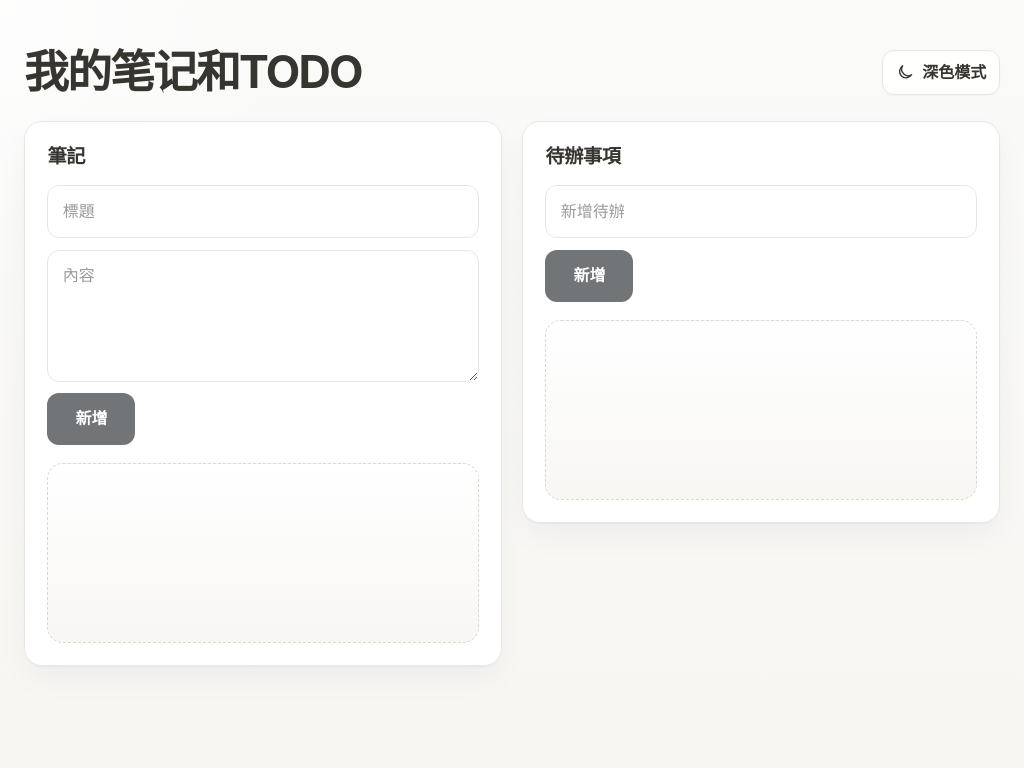
HomeClient interactions › creates a note with the in-memory API fake and reloads the list
In the field named "筆記標題": [263, 212] box [47,185,479,238], type "補 README"
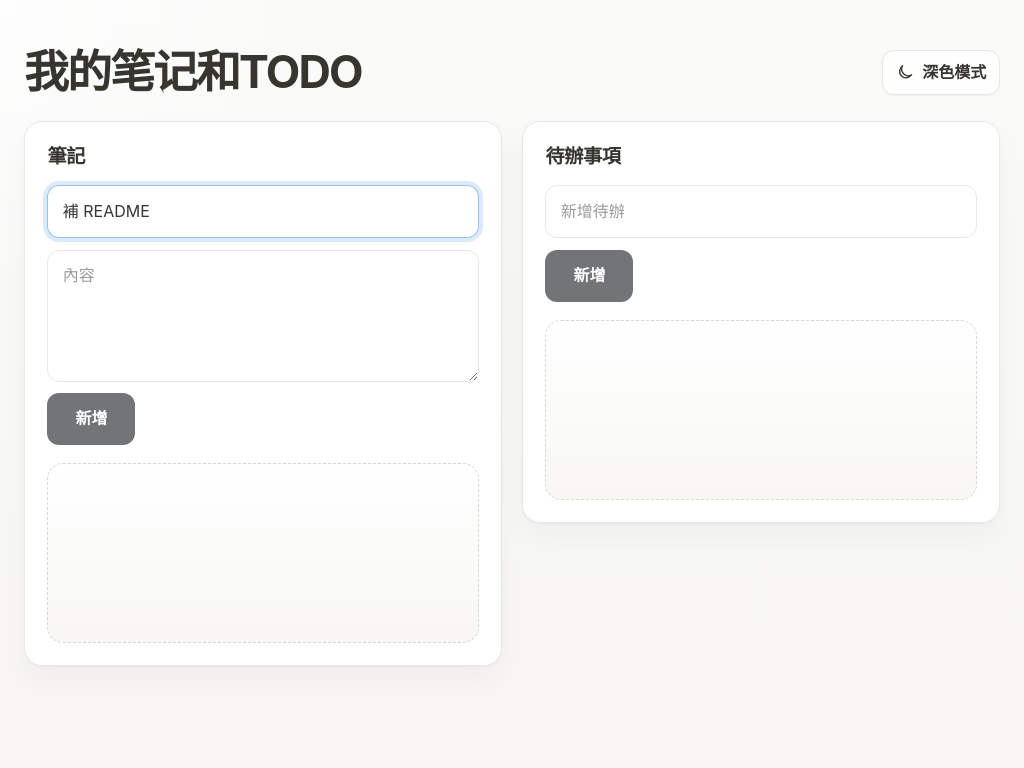
In the text box named "筆記內容": [263, 316] box [47,250,479,382], type "把 Blob token 的步驟寫清楚。"
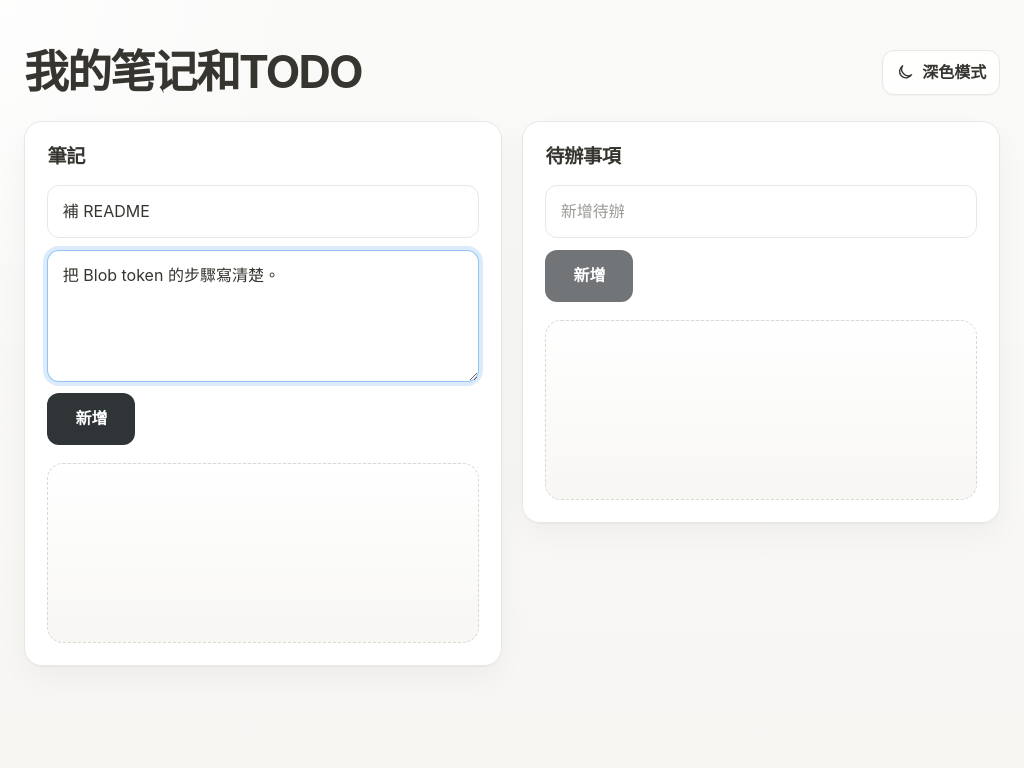
Click the button with aria-label "新增筆記": [91, 419] box [47,393,135,445]
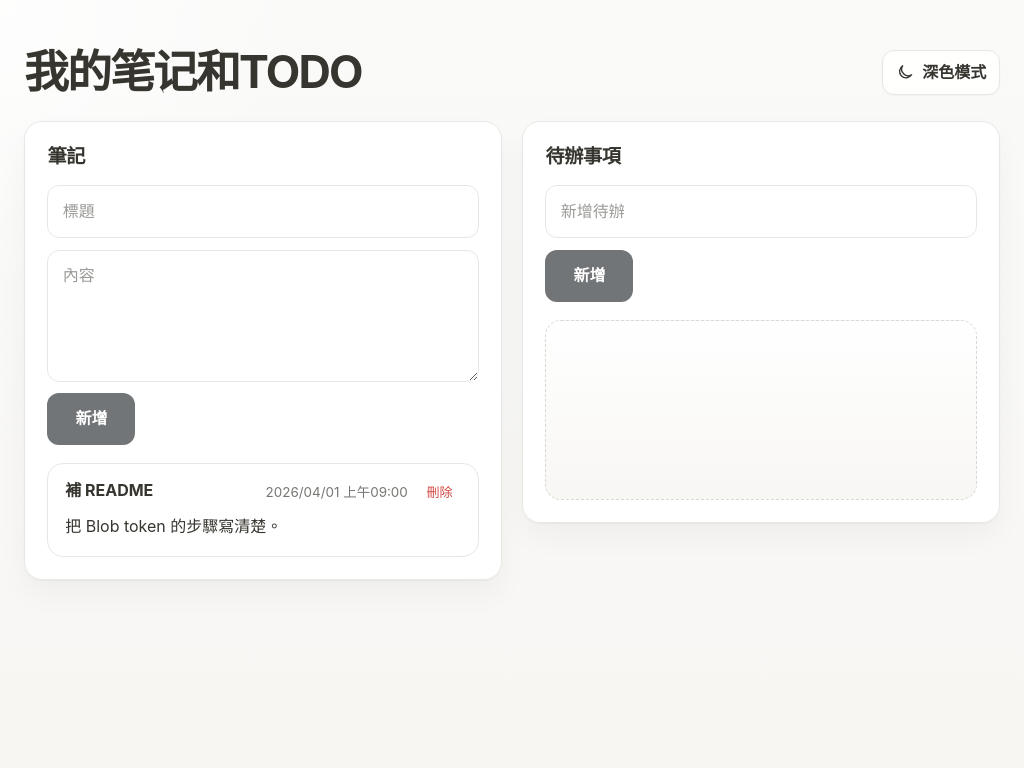
Check: the heading "補 README" is shown, box [65,480,153,502]
